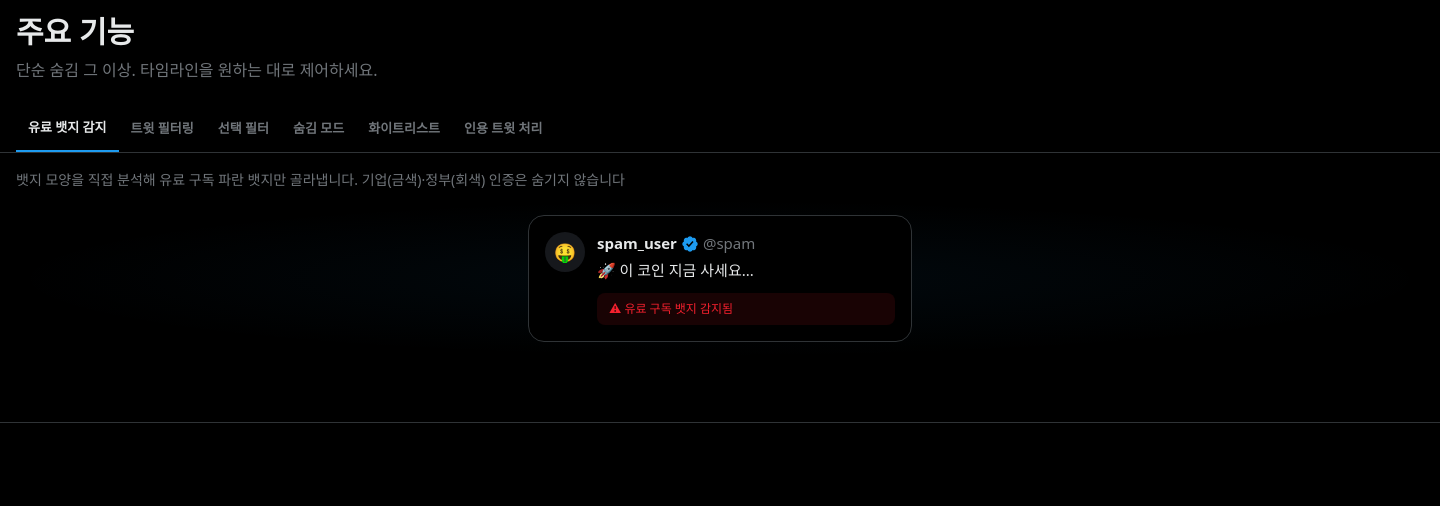
Test: Features › 인용 트윗 탭은 확장과 같은 선택지와 접힘 문구, 예외 규칙을 보여준다
Click the button "인용 트윗 처리": x=503, y=129 [452, 106, 554, 152]
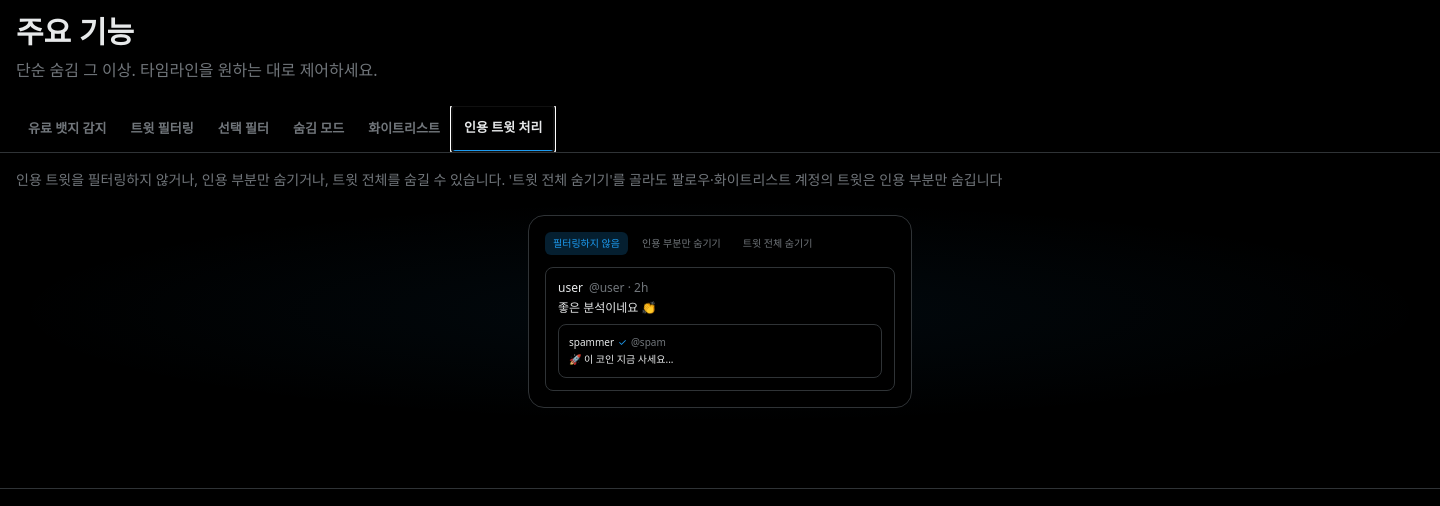
Now the text "필터링하지 않음" is shown, box [545, 232, 628, 255]
Now the text "인용 부분만 숨기기" is shown, box [642, 236, 721, 250]
Now the text "트윗 전체 숨기기" is shown, box [743, 236, 812, 250]
